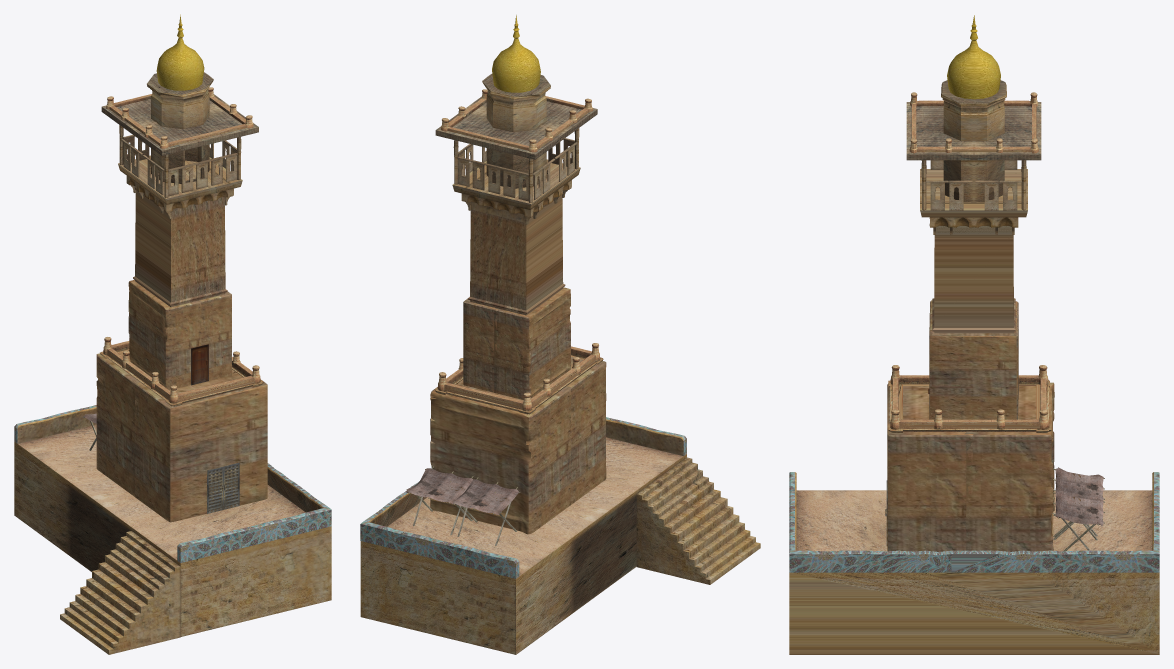
File: build7a.gltf
3 renders of one model, left to right at view 1: azimuth 30°, elevation 25°; view 2: azimuth 150°, elevation 25°; view 3: azimuth 270°, elevation 25°, orthographic. The views are drawn at different scales.
Visible parts, largest first — view 1: build7a; view 2: build7a; view 3: build7a.
Part boxes in pixels (x1,y1,x2,y2): build7a: (14, 14, 331, 654); build7a: (360, 15, 760, 654); build7a: (789, 15, 1159, 654).
Bounding box in the file's own units: 13.96 × 32.49 × 18.06.
11 materials, 11 textured.
